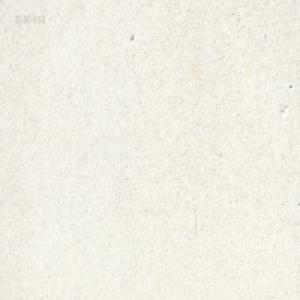Wrench: (181, 0, 188, 5)
